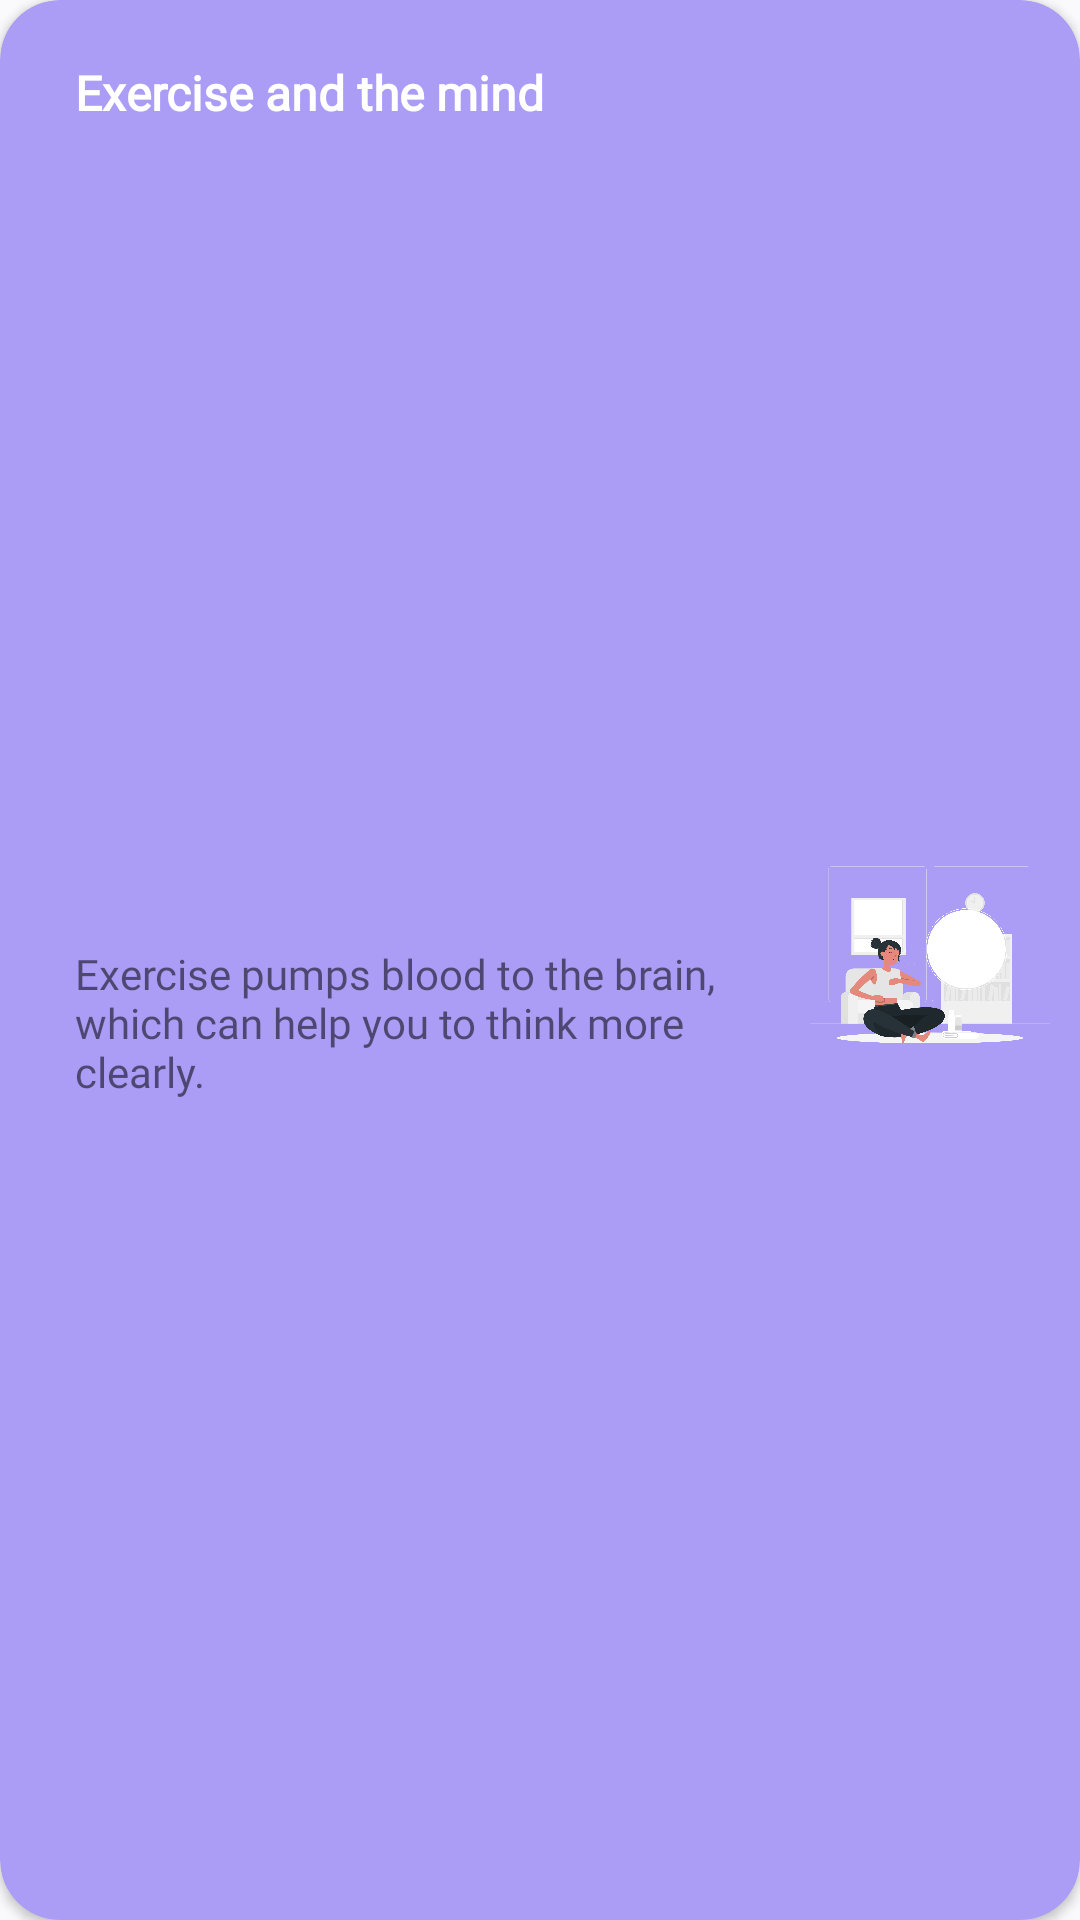

Icons on this 1080 x 1920 Android screen, each with its box as BBox(x1, y1, x2, y2):
breathing: BBox(828, 866, 1028, 1043)
